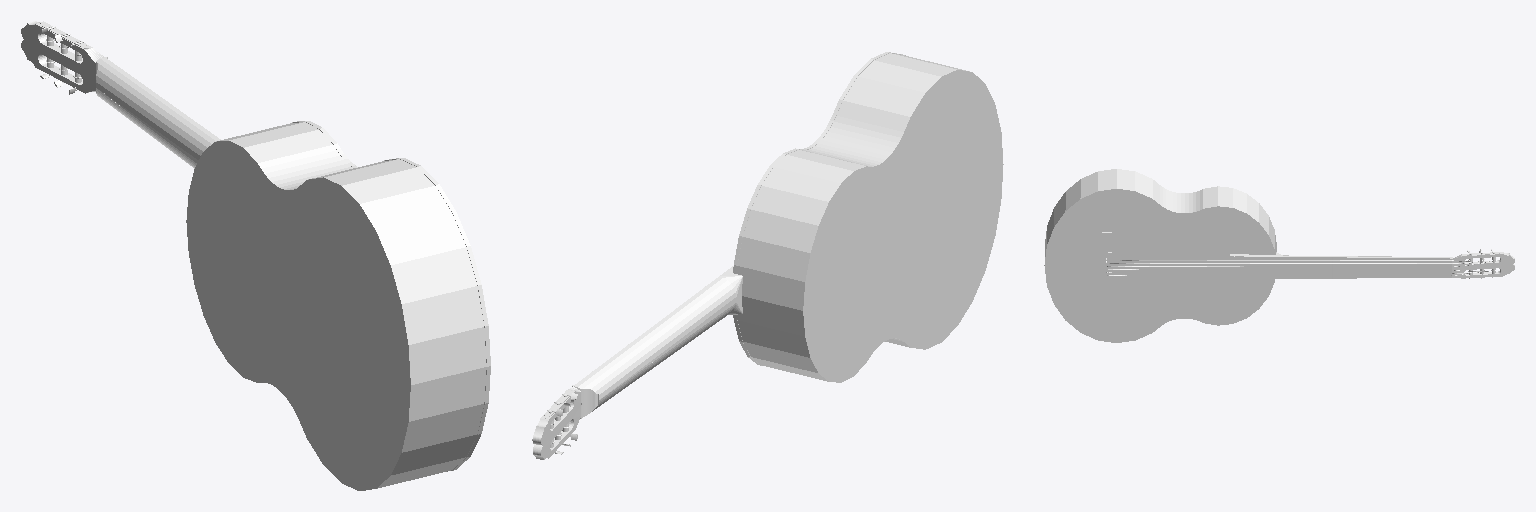
URDF robot description (cube.urdf):
<?xml version="0.0" ?>
<robot name="cube.urdf">
  <link name="baseLink">
    <contact>
      <lateral_friction value="1.0"/>
  <!--     <rolling_friction value="0.0"/>
      <spinning_friction value="0.01">
      <inertia_scaling value="3.0"/>
      <contact_cfm value="0.0"/>
      <contact_erp value="1.0"/> -->
    </contact>
    <inertial>
      <origin rpy="0 0 0" xyz="0 0 0"/>
       <mass value="1.0"/>
       <inertia ixx="1" ixy="0" ixz="0" iyy="1" iyz="0" izz="1"/>
    </inertial>
    <visual>
      <origin rpy="0 0 0" xyz="0 0 0"/>
        <geometry>
      <mesh filename="model.obj" scale=".6 .6 .6"/>
        </geometry>
        <material name="white">
          <color rgba="1 1 1 1"/>
        </material>
    </visual>
    <collision>
        <origin rpy="0 0 0" xyz="0 0 0"/>
        <geometry>
          <mesh filename="model.obj" scale=".6 .6 .6"/>
        </geometry>
    </collision>
  </link>
</robot>

--- Render facts (derived) ---
The picture shows the robot from 3 angles, left to right: view 1: azimuth 30°, elevation 25°; view 2: azimuth 150°, elevation 25°; view 3: azimuth 270°, elevation 25°; orthographic projection.
Robot: cube.urdf — 1 links, 0 joints (none); root link baseLink; default pose: every joint at zero.
Links seen in each view (by area): view 1: baseLink; view 2: baseLink; view 3: baseLink.
Link boxes in pixels (x1=…): baseLink: x1=21, y1=21, x2=490, y2=490; baseLink: x1=532, y1=52, x2=1003, y2=459; baseLink: x1=1044, y1=169, x2=1514, y2=342.
Bounding box of the posed robot: 0.0644 × 0.5609 × 0.2031 m (x, y, z).
Meshes: 1 distinct files referenced, 1 mesh visuals loaded (1 OBJ).